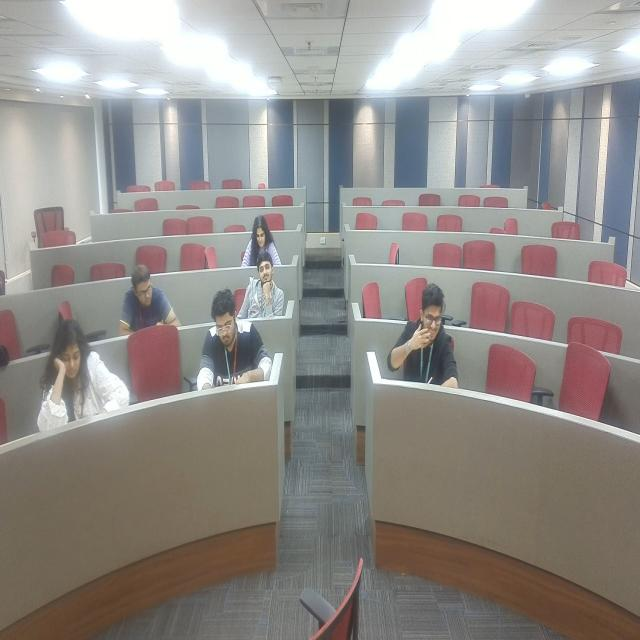cheating: (388, 284, 462, 404), (120, 255, 176, 344)
non-cheating: (41, 322, 115, 441), (201, 298, 255, 401), (233, 204, 284, 264), (247, 264, 291, 320)
